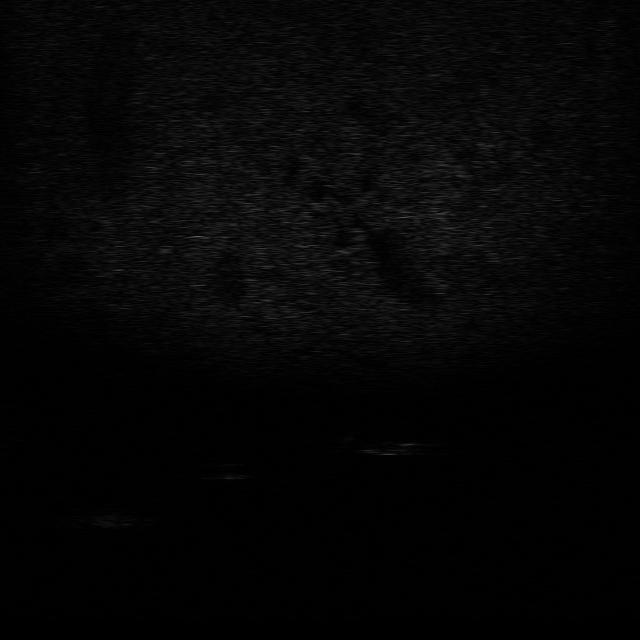ball: (201, 458, 254, 482)
circle cage: (61, 504, 148, 531)
human body: (328, 430, 434, 460)
